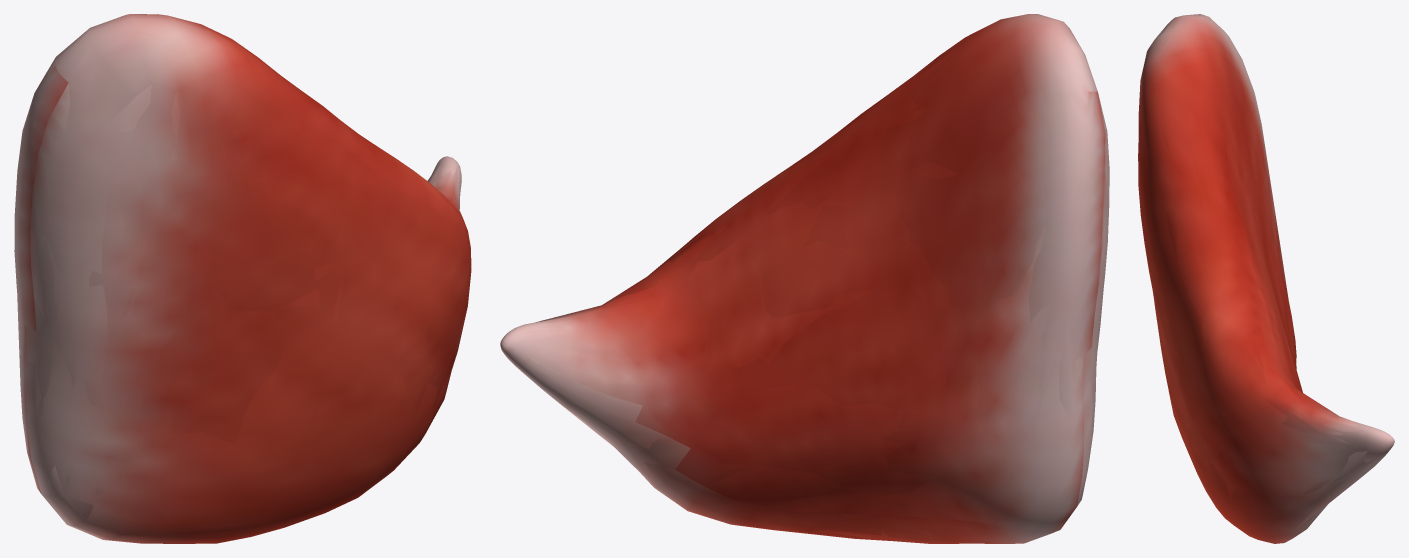
The model's file is L Pectoralis descendens.fbx.
3 renders of one model, left to right at view 1: azimuth 30°, elevation 25°; view 2: azimuth 150°, elevation 25°; view 3: azimuth 270°, elevation 25°, orthographic. The views are drawn at different scales.
Parts seen in each view (by area): view 1: L Pectoralis descendens, L Pectoralis descendens low; view 2: L Pectoralis descendens, L Pectoralis descendens low; view 3: L Pectoralis descendens, L Pectoralis descendens low.
Boxes of the visible parts, box(x1,y1,x2,y2) form: L Pectoralis descendens: box(14, 14, 471, 543); L Pectoralis descendens low: box(15, 23, 462, 541); L Pectoralis descendens: box(500, 14, 1109, 543); L Pectoralis descendens low: box(505, 48, 1109, 543); L Pectoralis descendens: box(1138, 14, 1394, 543); L Pectoralis descendens low: box(1138, 19, 1376, 534).
Size of the model in its own units: 16.95 by 17.36 by 9.54.
